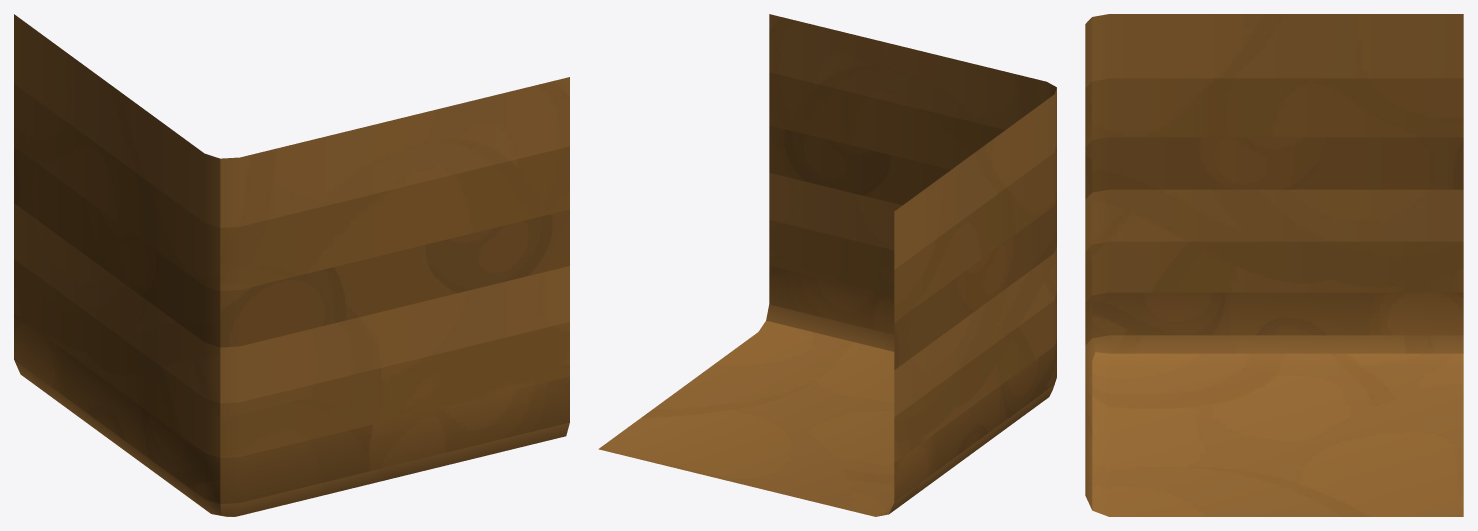
Rendered from cube_grass_corner_bottom.obj.
The picture shows the model from 3 angles, left to right: view 1: azimuth 30°, elevation 25°; view 2: azimuth 150°, elevation 25°; view 3: azimuth 270°, elevation 25°; orthographic projection. The views are drawn at different scales.
Parts seen in each view (by area): view 1: Cube_Grass_CornerBottom_Tall_Cube.387; view 2: Cube_Grass_CornerBottom_Tall_Cube.387; view 3: Cube_Grass_CornerBottom_Tall_Cube.387.
Boxes of the visible parts, box(x1,y1,x2,y2) form: Cube_Grass_CornerBottom_Tall_Cube.387: box(14, 14, 569, 516); Cube_Grass_CornerBottom_Tall_Cube.387: box(598, 14, 1056, 516); Cube_Grass_CornerBottom_Tall_Cube.387: box(1085, 14, 1463, 516).
Size of the model in its own units: 2 by 2 by 2.
Materials: 3 (3 with a texture image).
